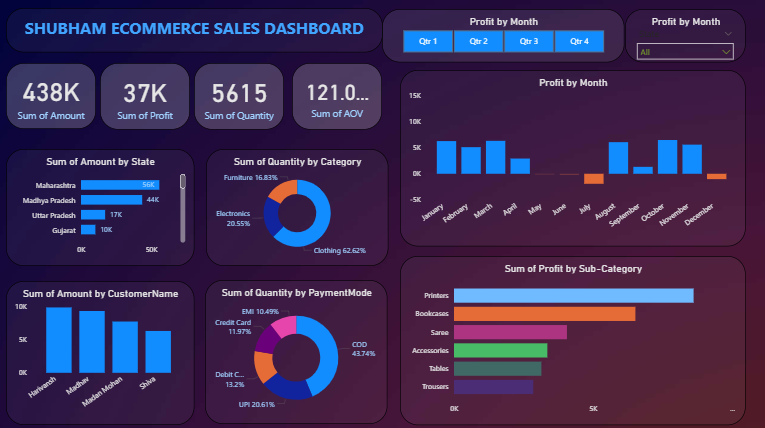

What the dashboard file says about the page in this screenshot:
{"tool":"powerbi","page":{"name":"Sales Dashboard","canvas":[1280,720],"ordinal":0},"visuals":[{"type":"barChart","title":"Sum of Profit by Sub-Category","fields":{"Category":["Details.Sub-Category"],"Y":["Sum(Details.Profit)"]},"box":[670,426,576,282],"z":0},{"type":"textbox","box":[12.5,12.5,627.5,73.8],"z":1000},{"type":"slicer","title":"Profit by Month","fields":{"Values":["Orders.Order Date.Variation.Date Hierarchy.Quarter"]},"box":[640,14.3,404.3,88.6],"z":2000},{"type":"donutChart","fields":{"Category":["Details.Category"],"Y":["Sum(Details.Quantity)"]},"box":[346.2,247.5,303.8,195],"z":3000},{"type":"donutChart","fields":{"Y":["Sum(Details.Quantity)"],"Category":["Details.PaymentMode"]},"box":[345.7,467.1,304.3,240],"z":4000},{"type":"card","fields":{"Values":["Sum(Details.Amount)"]},"box":[12.9,104.3,150,110],"z":5000},{"type":"card","fields":{"Values":["Sum(Details.Profit)"]},"box":[170,104.3,150,111.4],"z":6000},{"type":"card","fields":{"Values":["Sum(Details.Quantity)"]},"box":[327.1,104.3,150,111.4],"z":7000},{"type":"card","fields":{"Values":["Sum(Details.AOV)"]},"box":[490,105.7,150,111.4],"z":8000},{"type":"barChart","title":"Sum of Amount by State","fields":{"Category":["Orders.State"],"Y":["Sum(Details.Amount)"]},"box":[12.5,247.5,313.8,195],"z":9000},{"type":"columnChart","fields":{"Category":["Orders.CustomerName"],"Y":["Sum(Details.Amount)"]},"box":[12.5,467.5,313.8,240],"z":10000},{"type":"slicer","title":"Profit by Month","fields":{"Values":["Orders.State"]},"box":[1044.3,14.3,201.4,88.6],"z":11000},{"type":"columnChart","title":" Profit by Month","fields":{"Y":["Sum(Details.Profit)"],"Category":["Orders.Order Date.Variation.Date Hierarchy.Month"]},"box":[670.1,116.1,575.9,294.3],"z":11001}]}

Visuals, with their boxes in screenshot pixels (x1, y1, x2, y2), scaled from the page's 1280x720 canvas onto the 765x428 screenshot:
"Sum of Profit by Sub-Category" barChart: left=400, top=253, right=745, bottom=421
textbox: left=7, top=7, right=382, bottom=51
"Profit by Month" slicer: left=382, top=9, right=624, bottom=61
donutChart - Details.Category x Sum(Details.Quantity): left=207, top=147, right=388, bottom=263
donutChart - Sum(Details.Quantity) x Details.PaymentMode: left=207, top=278, right=388, bottom=420
card - Sum(Details.Amount): left=8, top=62, right=97, bottom=127
card - Sum(Details.Profit): left=102, top=62, right=191, bottom=128
card - Sum(Details.Quantity): left=195, top=62, right=285, bottom=128
card - Sum(Details.AOV): left=293, top=63, right=382, bottom=129
"Sum of Amount by State" barChart: left=7, top=147, right=195, bottom=263
columnChart - Orders.CustomerName x Sum(Details.Amount): left=7, top=278, right=195, bottom=421
"Profit by Month" slicer: left=624, top=9, right=745, bottom=61
" Profit by Month" columnChart: left=400, top=69, right=745, bottom=244
